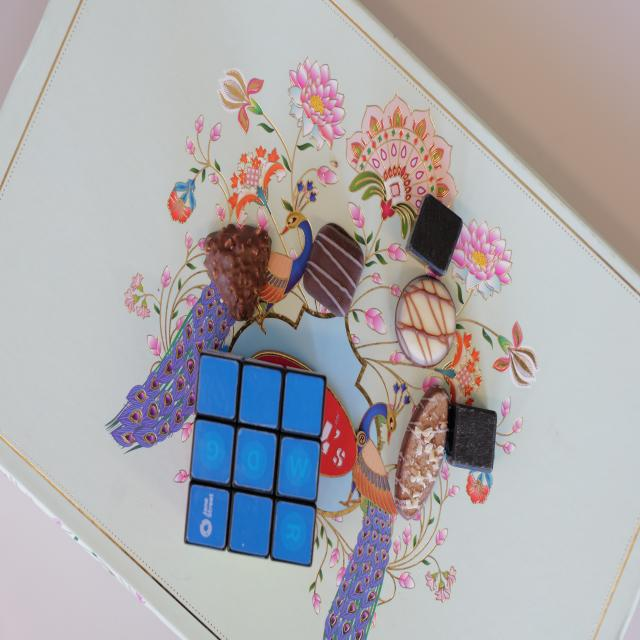Creme_brulee: (395, 276, 455, 368)
Stracciatella: (303, 222, 364, 319)
Triangolo: (204, 223, 272, 322)
